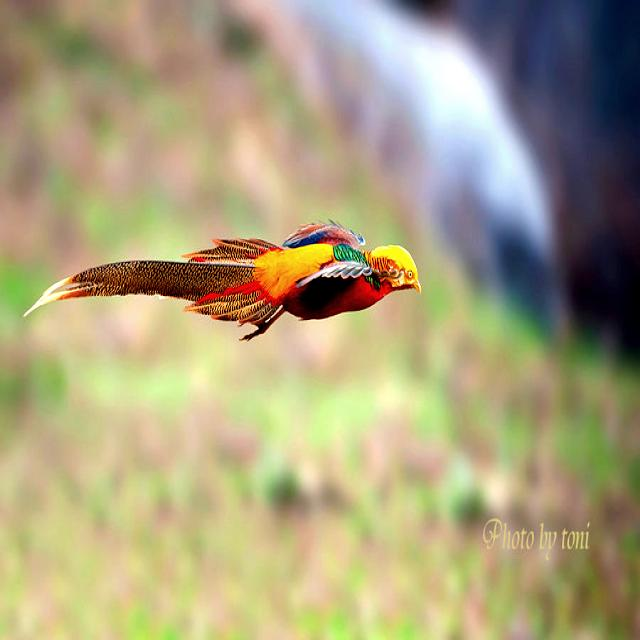Chrysolophus pictus feather: (26, 239, 282, 333)
